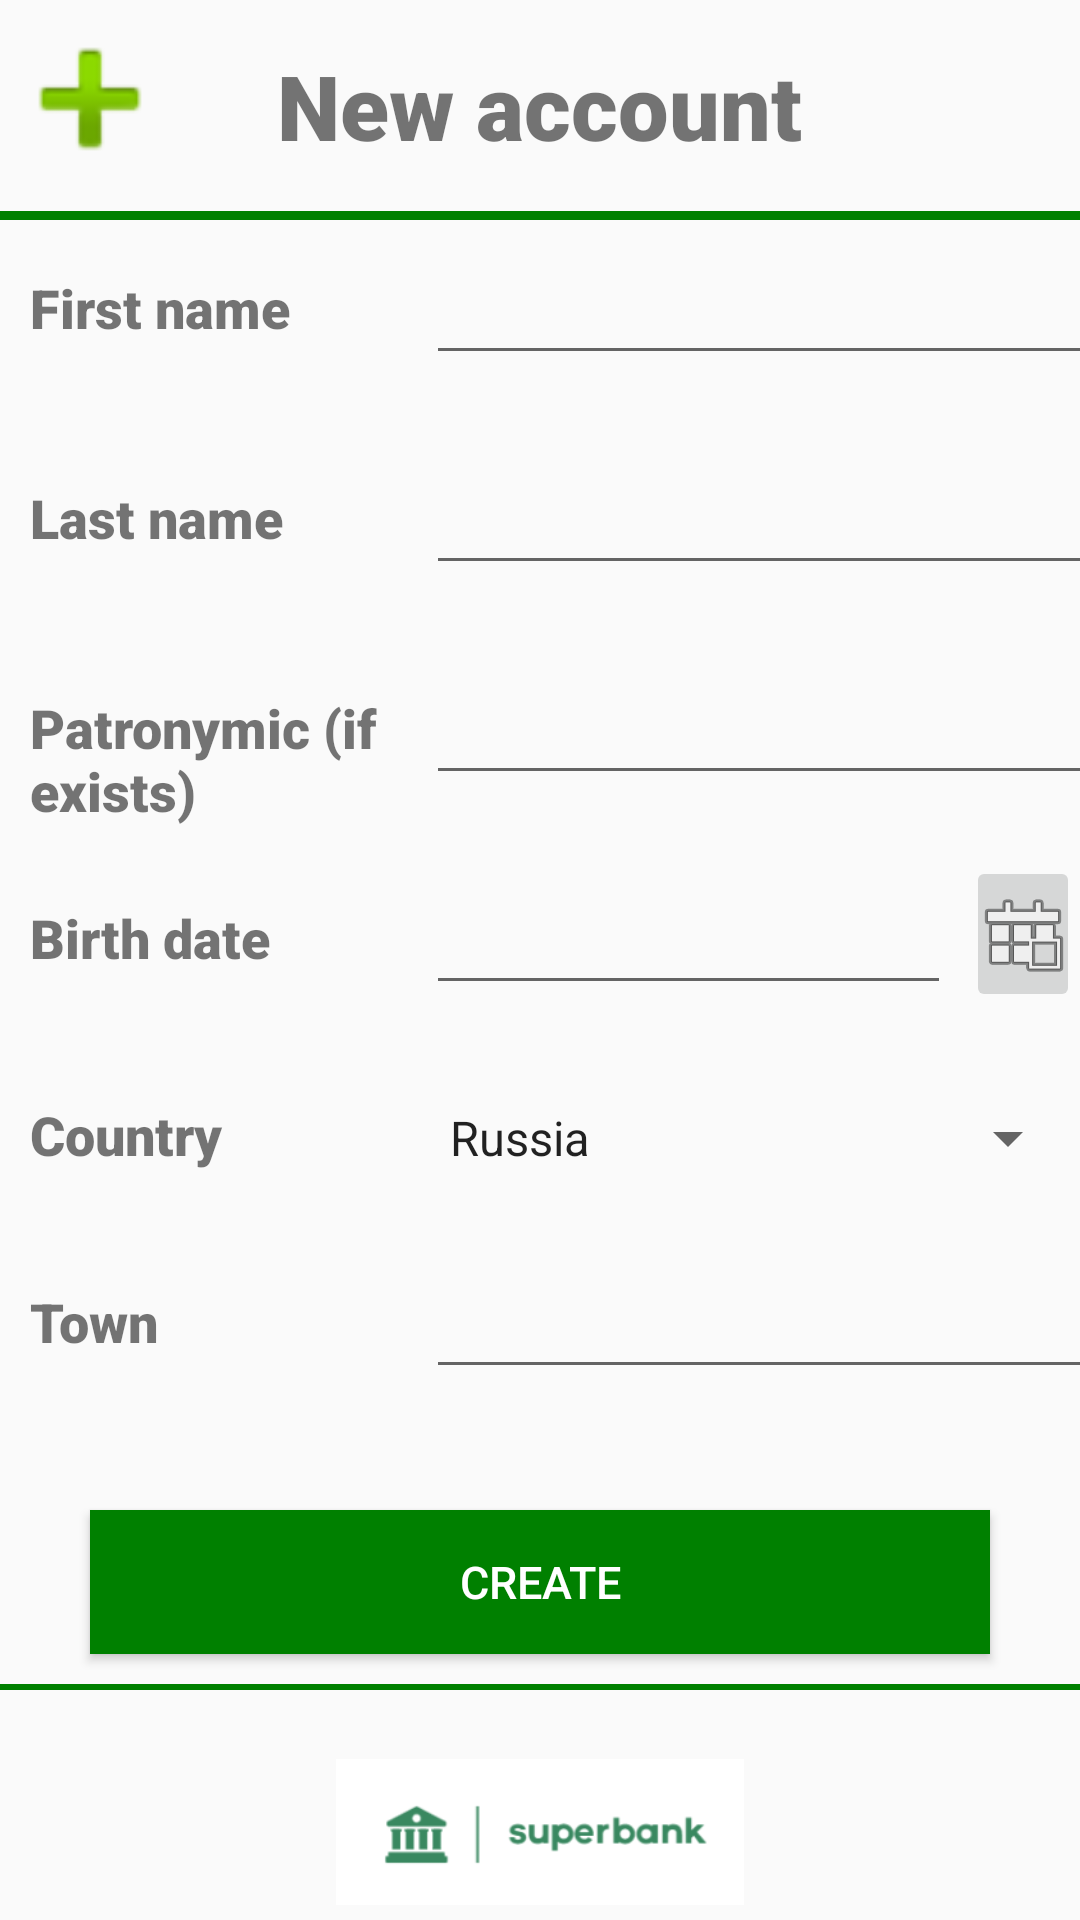

Icon click points for this 1080px×1920px phone screenshot, format [x,y]:
add: [90,99]
today: [1023,934]
